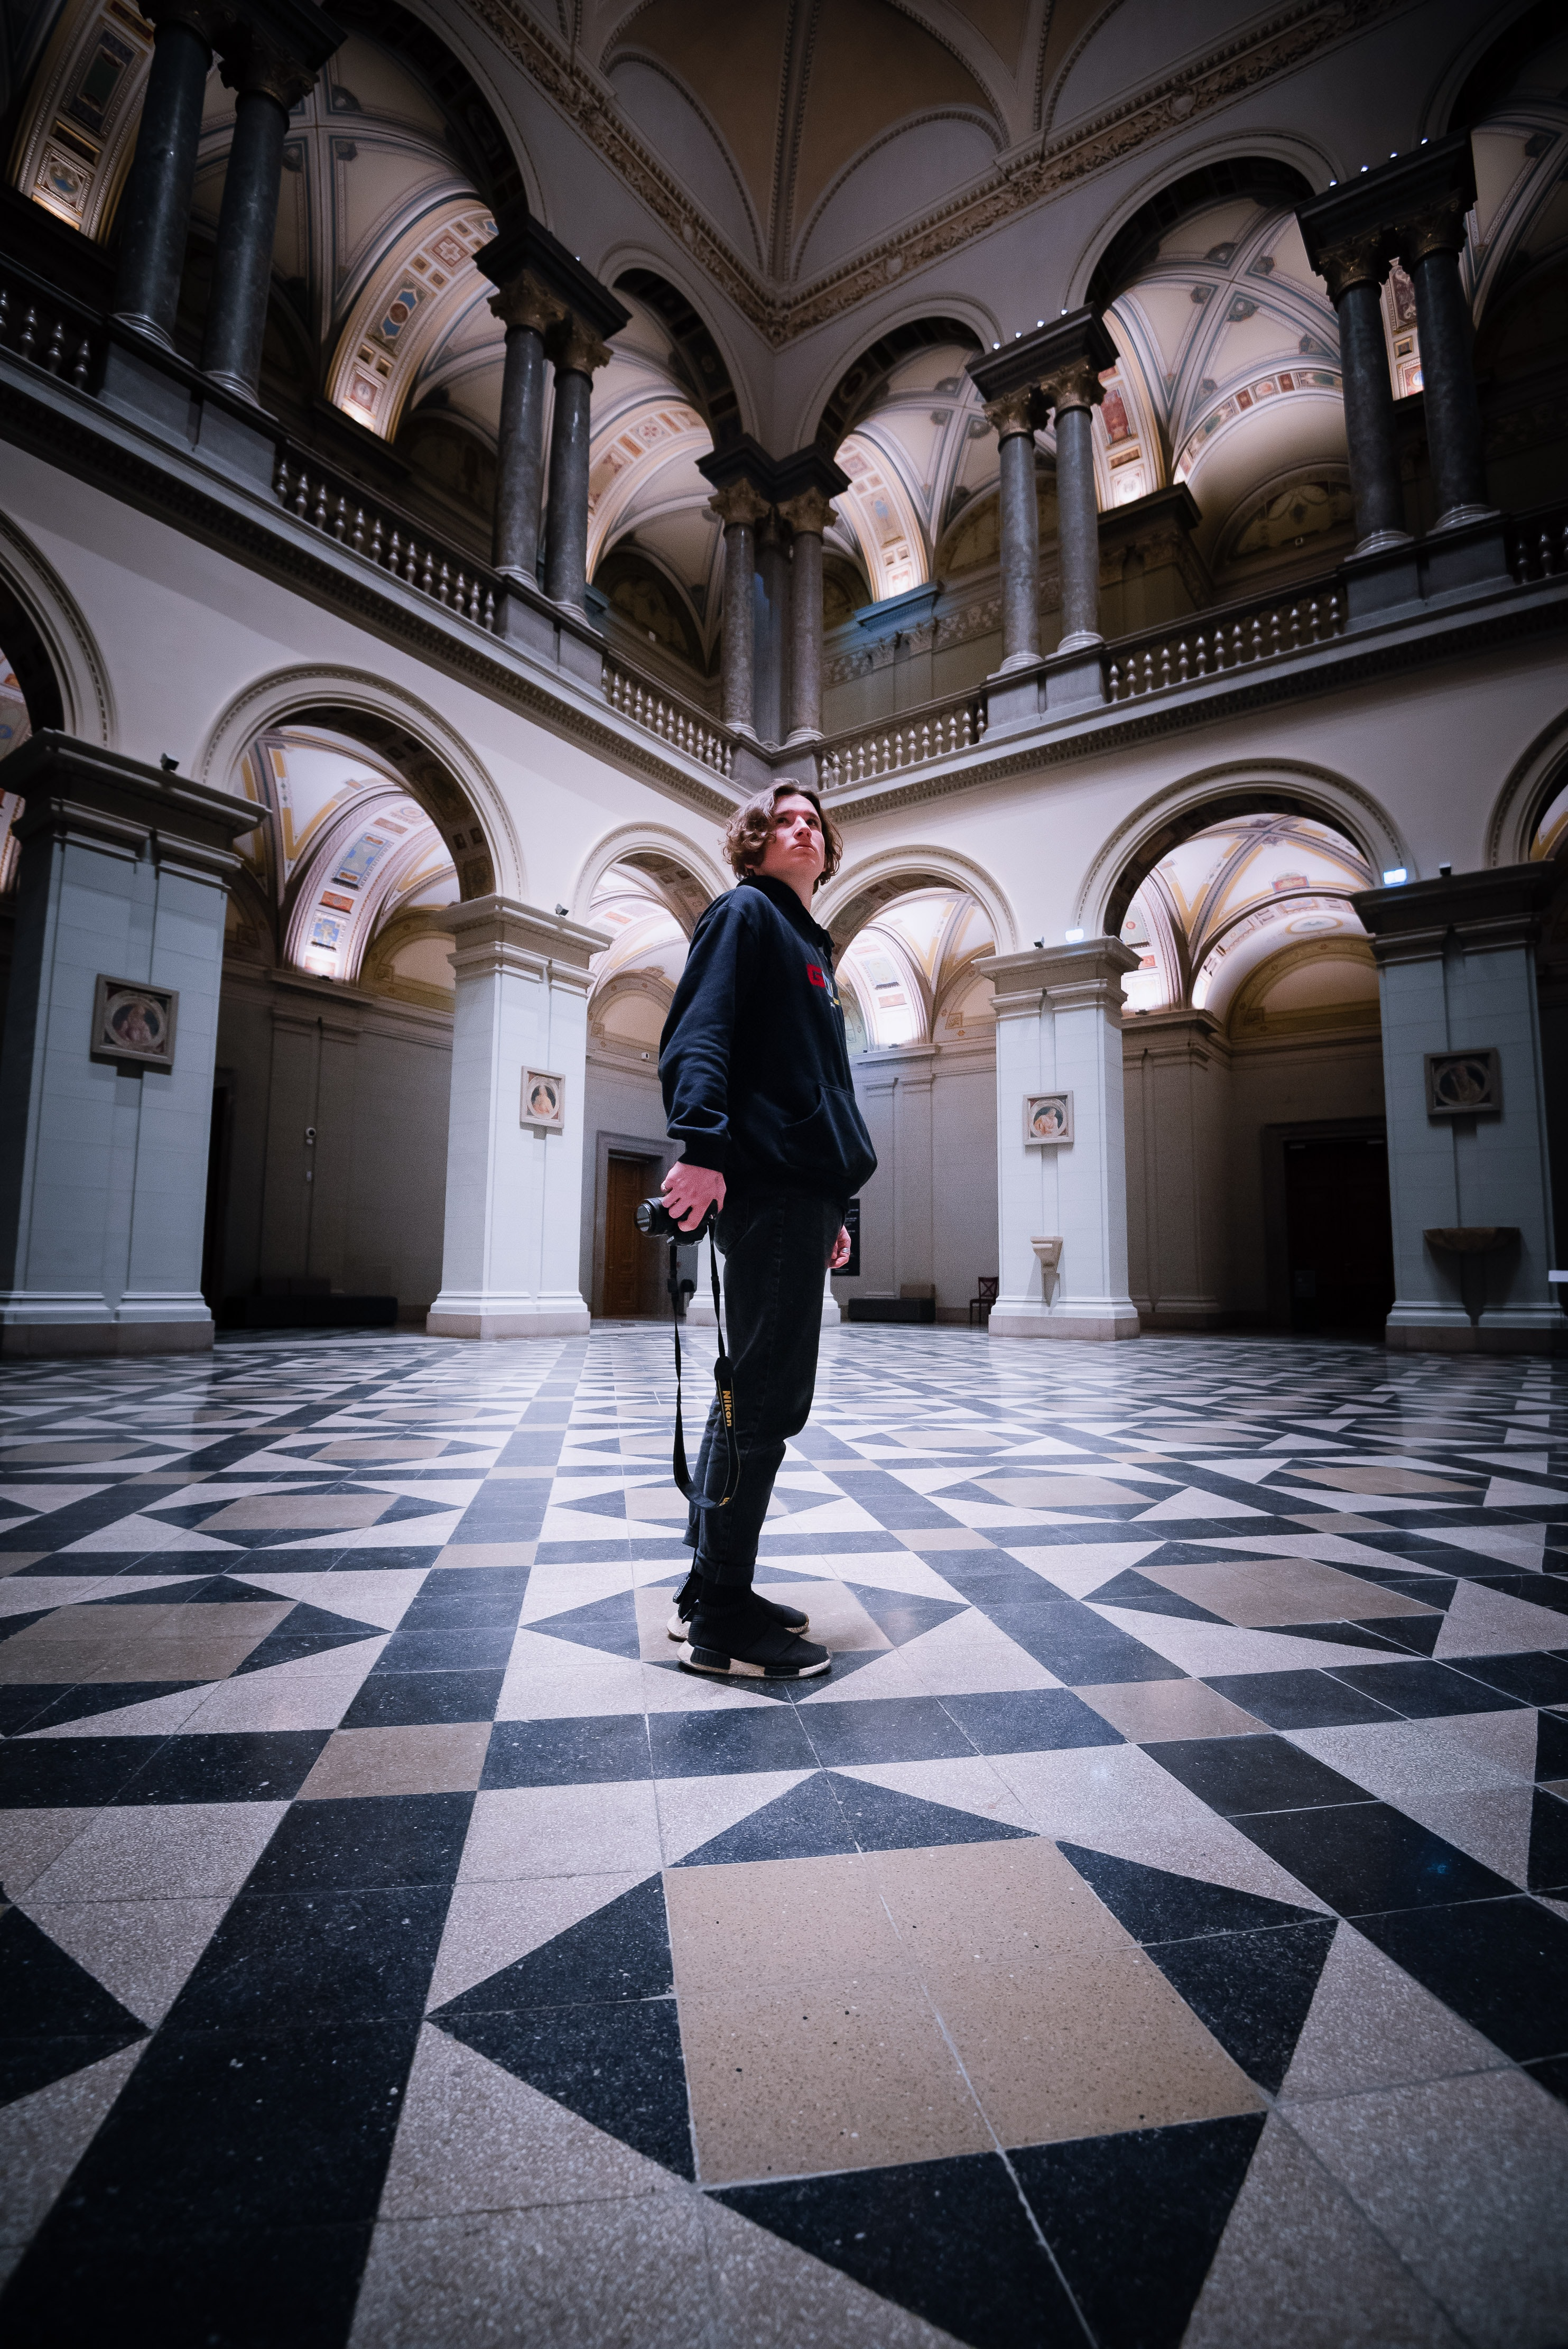person: (659, 794, 878, 1682)
